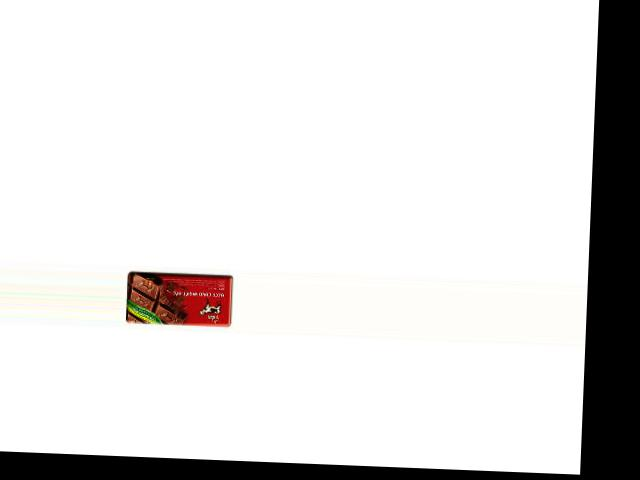chocolate: (125, 269, 235, 328)
